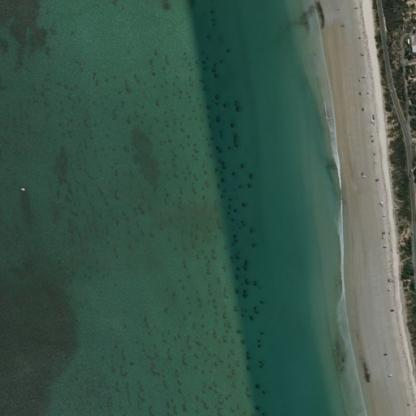ship: (15, 183, 29, 194)
